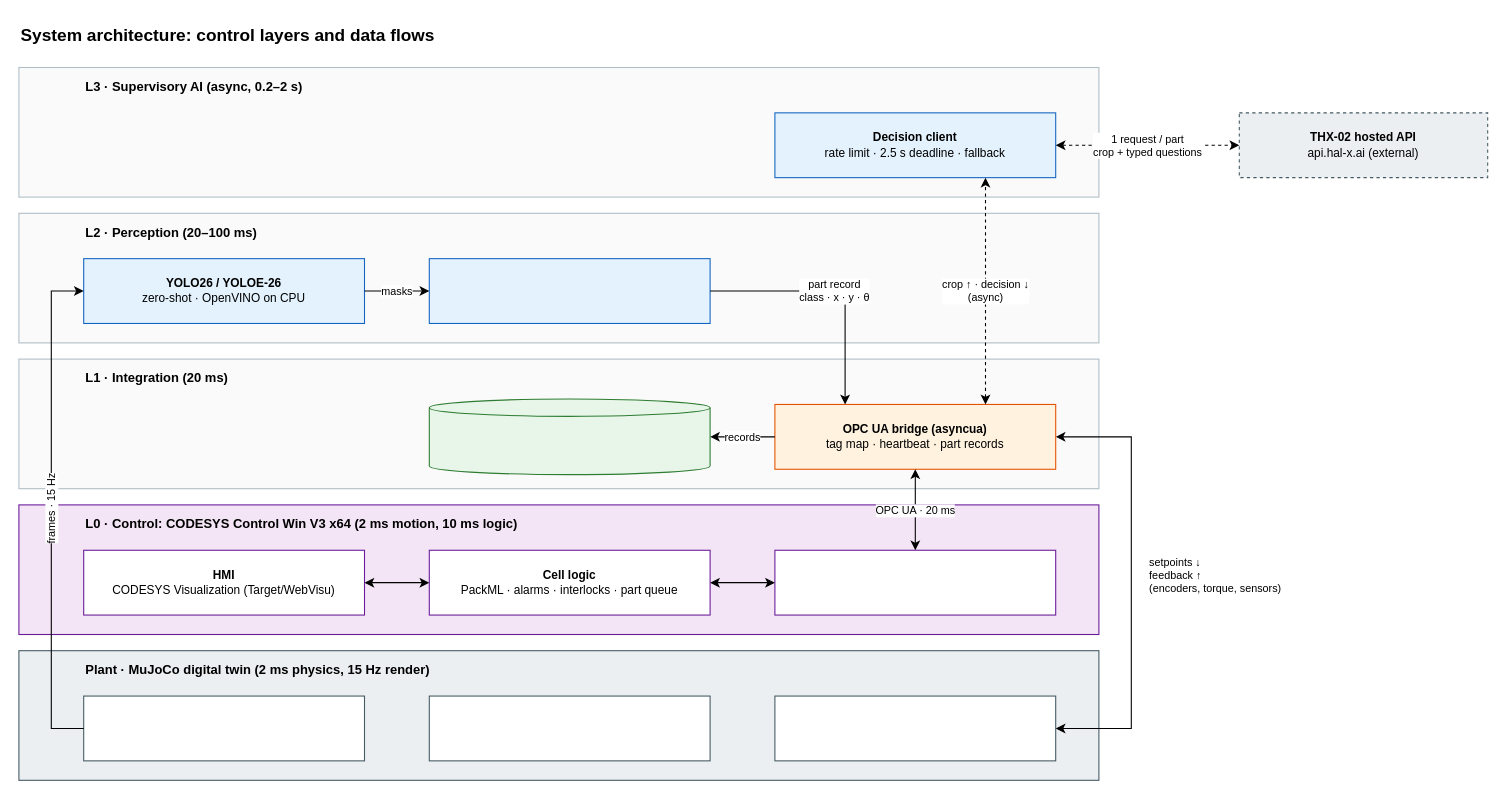
The diagram is 1507 pixels wide and 799 high, and some of its shapes have lost their labels. The centre of each missing label's shape, as x and y in pixels:
Belt · parts · suction gripper photo-eyes · 6 bins · door · E-stop: (569,728)
Evaluation recorder ground truth · decisions (JSONL): (569,436)
Overhead camera 1280×720 offscreen render: (223,728)
Pose estimation mask → (x, y, θ) on belt: (569,290)
Simulated servo joints PD control · encoders · torque: (915,728)
SoftMotion 6-DOF axis group · conveyor tracking: (915,582)
